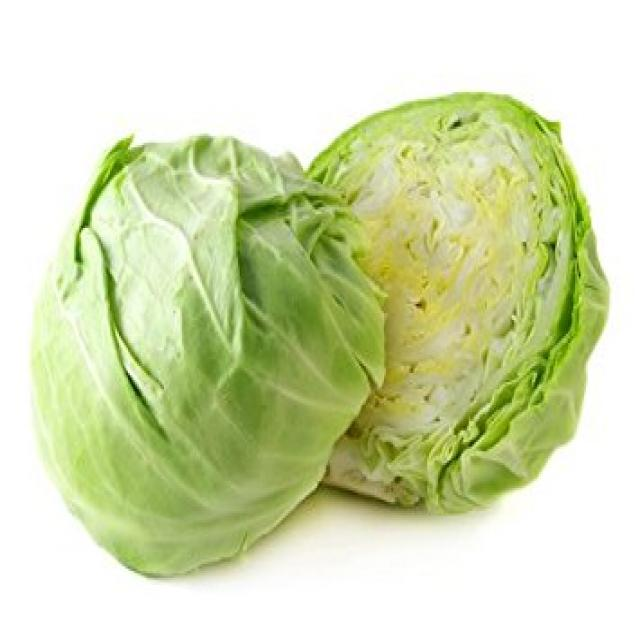cabbage: (3, 93, 326, 602), (401, 74, 615, 572)
